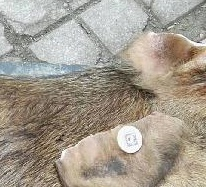text: (108, 118, 153, 159)
